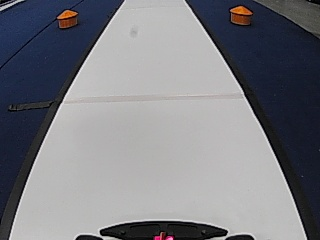granary: (228, 4, 252, 26), (56, 7, 78, 29)
